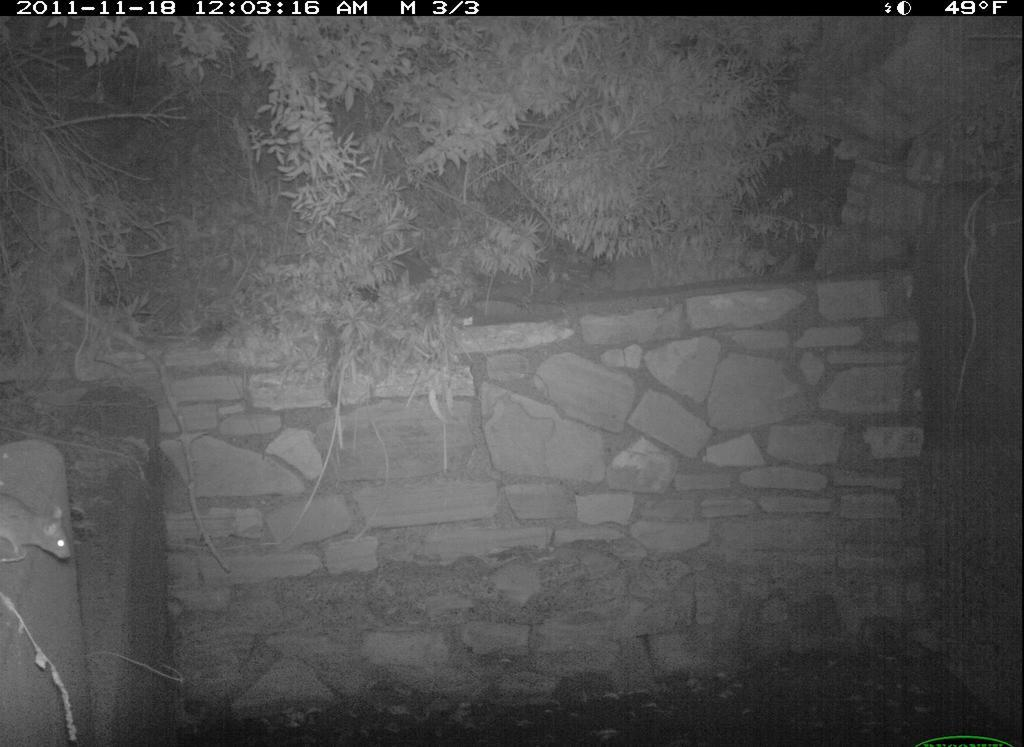rodent: (1, 469, 81, 577)
